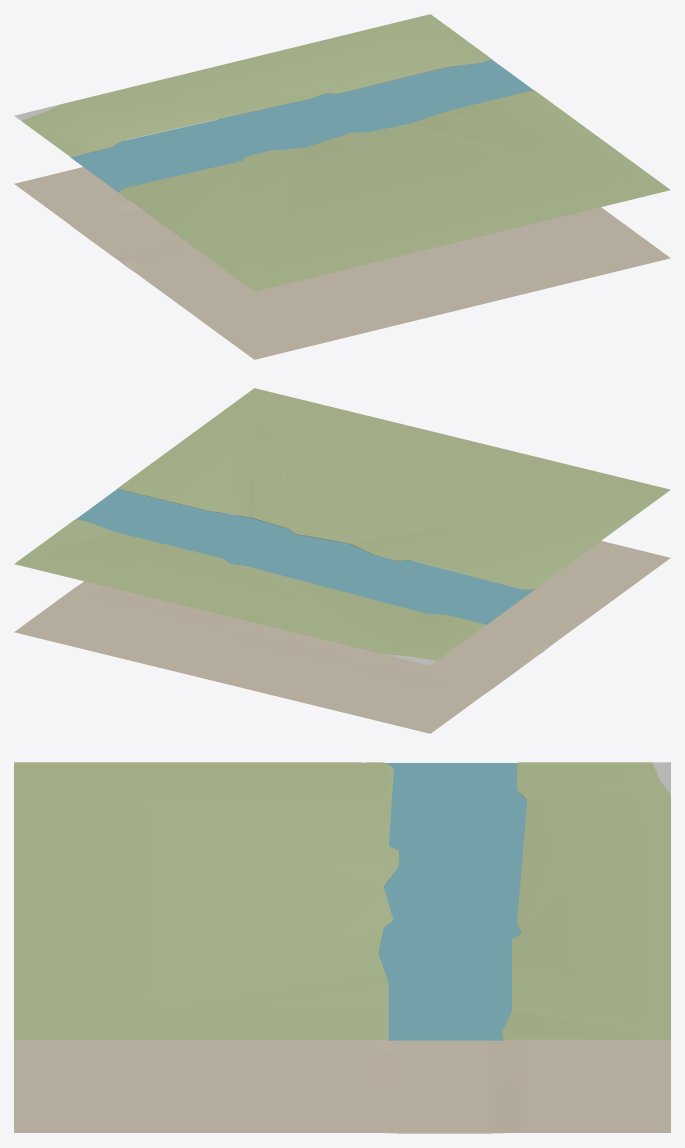
3 renders of one model, top to bottom at view 1: azimuth 30°, elevation 25°; view 2: azimuth 150°, elevation 25°; view 3: azimuth 270°, elevation 25°, orthographic. The views are drawn at different scales.
Parts seen in each view (by area): view 1: s_-4_6__grass, s_-4_6__soil, s_-4_6__water; view 2: s_-4_6__grass, s_-4_6__soil, s_-4_6__water; view 3: s_-4_6__grass, s_-4_6__soil, s_-4_6__water.
Boxes of the visible parts, x1,y1,x2,y2 form: s_-4_6__grass: (21,14,670,291); s_-4_6__soil: (14,167,670,359); s_-4_6__water: (70,59,532,192); s_-4_6__grass: (14,388,670,660); s_-4_6__soil: (14,513,670,733); s_-4_6__water: (76,489,534,624); s_-4_6__grass: (14,762,670,1040); s_-4_6__soil: (14,1040,670,1133); s_-4_6__water: (378,763,526,1040).
Bounding box in the file's own units: 128 × 20.21 × 128.
